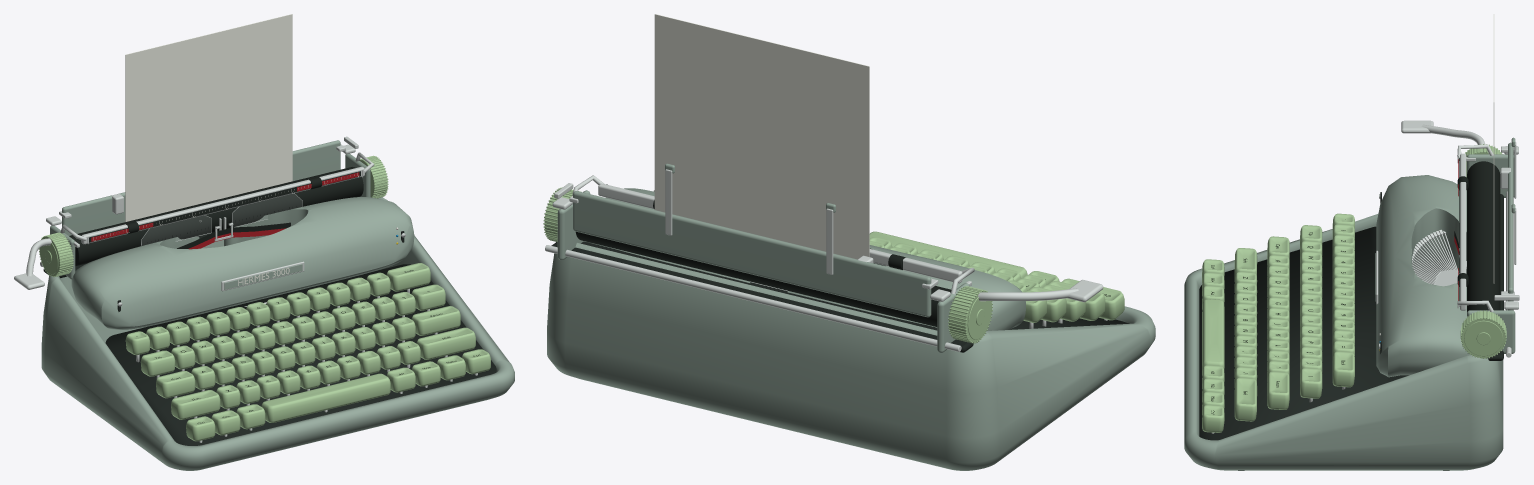
File: hermes3000.glb
3 renders of one model, left to right at view 1: azimuth 30°, elevation 25°; view 2: azimuth 150°, elevation 25°; view 3: azimuth 270°, elevation 25°, orthographic. The views are drawn at different scales.
Parts seen in each view (by area): view 1: Paper, Ribbon_Hood, Cast_Perimeter, Black_Keyboard_Well, Platen, Paper_Table, Cap_Space, Paper_Bail_Channel, Cap_ShiftRight, Margin_Window, Cap_ShiftLeft, Cap_Enter (+17 smaller); view 2: Cast_Perimeter, Paper, Paper_Table, Ribbon_Hood, Platen, Carriage_Rail, Carriage_Frame, Paper_Bail_Channel, Cap_Space, Carriage_End_Cheek_R, Return_Lever_Chrome, Platen_Knob_Left (+3 smaller); view 3: Cast_Perimeter, Ribbon_Hood, Black_Keyboard_Well, Platen, Cap_Space, Paper_Bail_Channel, Knob_Face.001, Cap_ShiftRight, Paper_Table, Cap_Enter, Cap_Backspace, Cap_Backslash (+11 smaller).
Boxes of the visible parts, <box> form: Paper: <box>125,14,292,221</box>; Ribbon_Hood: <box>71,197,414,329</box>; Cast_Perimeter: <box>41,197,514,470</box>; Black_Keyboard_Well: <box>105,264,496,445</box>; Platen: <box>69,167,363,266</box>; Paper_Table: <box>62,140,340,235</box>; Cap_Space: <box>261,373,390,422</box>; Paper_Bail_Channel: <box>81,166,364,244</box>; Cap_ShiftRight: <box>416,327,475,359</box>; Margin_Window: <box>89,171,360,242</box>; Cap_ShiftLeft: <box>171,390,220,419</box>; Cap_Enter: <box>411,306,460,335</box>; Cast_Perimeter: <box>547,243,1155,470</box>; Paper: <box>654,14,869,259</box>; Paper_Table: <box>573,191,931,317</box>; Ribbon_Hood: <box>587,188,1025,331</box>; Platen: <box>575,231,951,326</box>; Carriage_Rail: <box>545,245,961,351</box>; Carriage_Frame: <box>551,241,973,352</box>; Paper_Bail_Channel: <box>598,183,962,283</box>; Cap_Space: <box>869,231,1027,278</box>; Carriage_End_Cheek_R: <box>557,190,590,260</box>; Return_Lever_Chrome: <box>978,288,1078,301</box>; Platen_Knob_Left: <box>949,288,991,342</box>; Cast_Perimeter: <box>1184,214,1503,470</box>; Ribbon_Hood: <box>1376,175,1470,377</box>; Black_Keyboard_Well: <box>1199,226,1387,440</box>; Platen: <box>1467,161,1500,311</box>; Cap_Space: <box>1202,299,1224,375</box>; Paper_Bail_Channel: <box>1460,153,1466,310</box>; Knob_Face.001: <box>1464,320,1503,356</box>; Cap_ShiftRight: <box>1234,377,1257,421</box>; Paper_Table: <box>1508,142,1513,310</box>; Cap_Enter: <box>1267,371,1289,409</box>; Cap_Backspace: <box>1332,351,1354,387</box>; Cap_Backslash: <box>1300,368,1322,398</box>.
Bounding box in the file's own units: 0.534 × 0.3985 × 0.3595.
